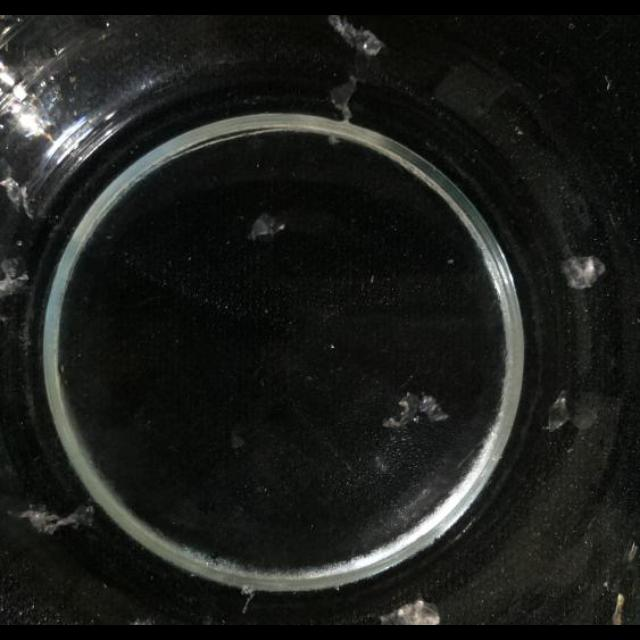Fibre: (9, 504, 93, 536), (384, 392, 448, 431), (328, 15, 384, 58), (560, 254, 606, 290), (380, 599, 440, 625), (1, 176, 34, 218), (327, 76, 359, 118), (0, 257, 30, 300), (248, 212, 284, 242), (544, 394, 570, 432), (230, 430, 246, 450), (130, 616, 156, 624), (604, 76, 614, 90), (633, 543, 640, 563)
microbeads: (368, 274, 374, 284)
